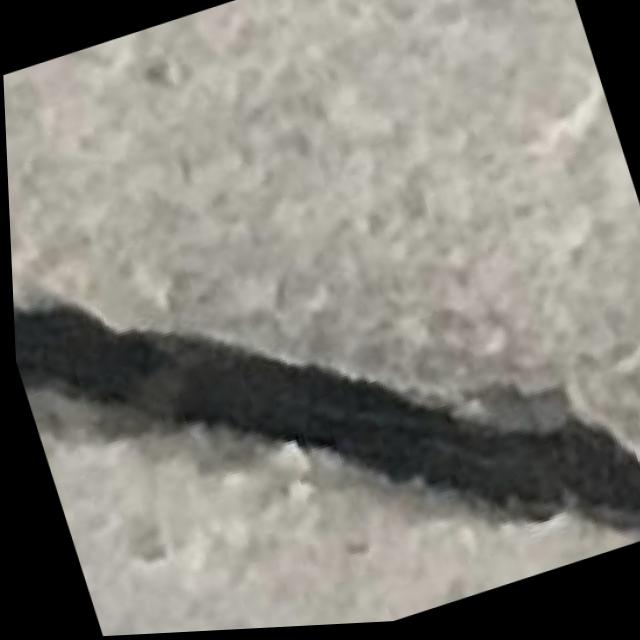Crack: (4, 102, 640, 640)
